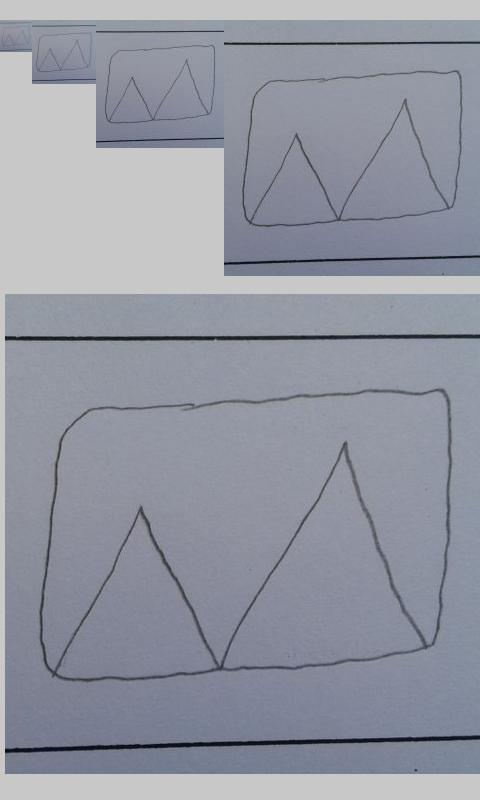image_view: (37, 386, 456, 687), (237, 67, 465, 231), (104, 44, 218, 124), (35, 32, 93, 74), (1, 25, 31, 47)
